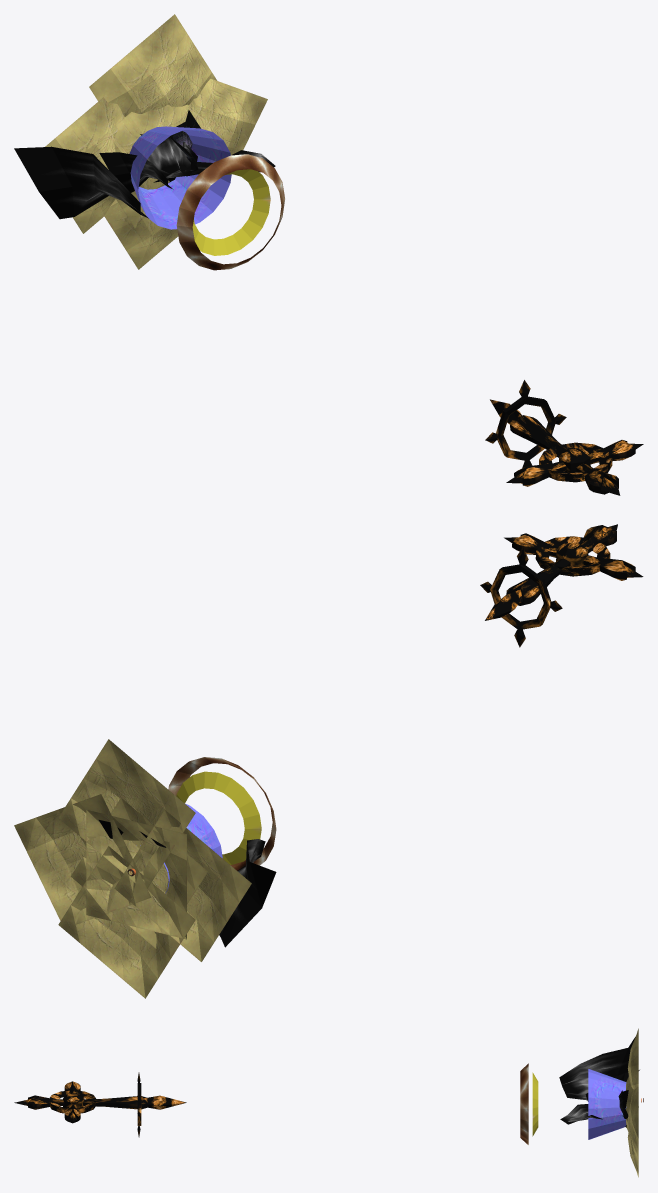
The model's file is tx_knight_shengshizizhicai_fire.obj.
3 renders of one model, top to bottom at view 1: azimuth 30°, elevation 25°; view 2: azimuth 150°, elevation 25°; view 3: azimuth 270°, elevation 25°, orthographic. The views are drawn at different scales.
Visible parts, largest first — view 1: Plane06, shizijia_02, Plane17, Cylinder02, Plane03, zi01, Plane04, zi02, Plane07, Plane05, Plane22, Plane10; view 2: shizijia_02, Plane06, Plane05, Plane04, Plane03, Plane02, zi02, Plane17, Plane07, zi01, Cylinder02; view 3: shizijia_02, Cylinder02, Plane17, zi01, Plane03, Plane06, Plane18, zi02.
Boxes of the visible parts, x1,y1,x2,y2 form: Plane06: (89, 14, 217, 116); shizijia_02: (485, 380, 643, 495); Plane17: (14, 146, 148, 219); Cylinder02: (129, 126, 231, 229); Plane03: (189, 78, 267, 154); zi01: (176, 154, 284, 270); Plane04: (45, 97, 124, 233); zi02: (192, 169, 270, 255); Plane07: (114, 104, 190, 228); Plane05: (104, 199, 178, 269); Plane22: (99, 152, 173, 192); Plane10: (140, 134, 190, 176); shizijia_02: (480, 524, 643, 647); Plane06: (58, 739, 195, 888); Plane05: (58, 846, 195, 998); Plane04: (114, 810, 251, 961); Plane03: (14, 794, 151, 924); Plane02: (86, 809, 186, 939); zi02: (176, 771, 261, 864); Plane17: (219, 839, 276, 947); Plane07: (71, 798, 207, 948); zi01: (168, 757, 276, 870); Cylinder02: (136, 803, 222, 893); shizijia_02: (14, 1072, 186, 1137); Cylinder02: (588, 1069, 626, 1139); Plane17: (559, 1037, 635, 1100); zi01: (520, 1063, 528, 1144); Plane03: (627, 1087, 638, 1170); Plane06: (627, 1028, 638, 1089); Plane18: (560, 1104, 602, 1124); zi02: (532, 1072, 538, 1136).
Bounding box in the file's own units: 361 × 333 × 1165.
11 materials, 11 textured.
